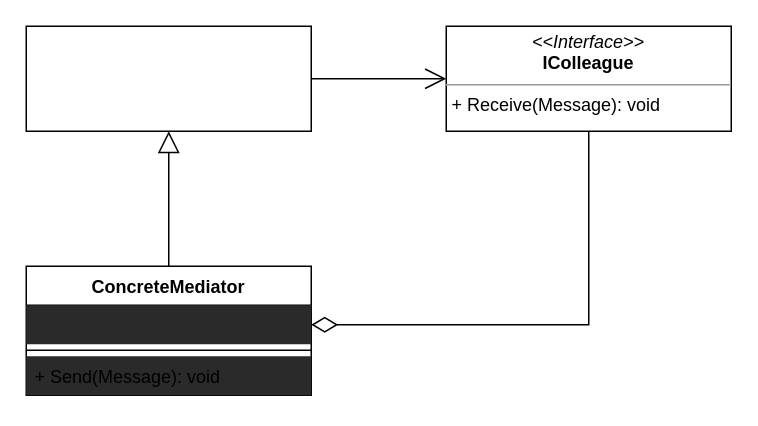
The diagram is 758 pixels wide and 426 high, and some of its shapes have lost their labels. The shapes that lost their labels are listed below. From the top down, each one's centre as x and y in pixels, then its label:
At (168,78): "<<Interface>> IMediator + Send(Message): void".
At (168,324): "- colleagues: IColleagues[]".
